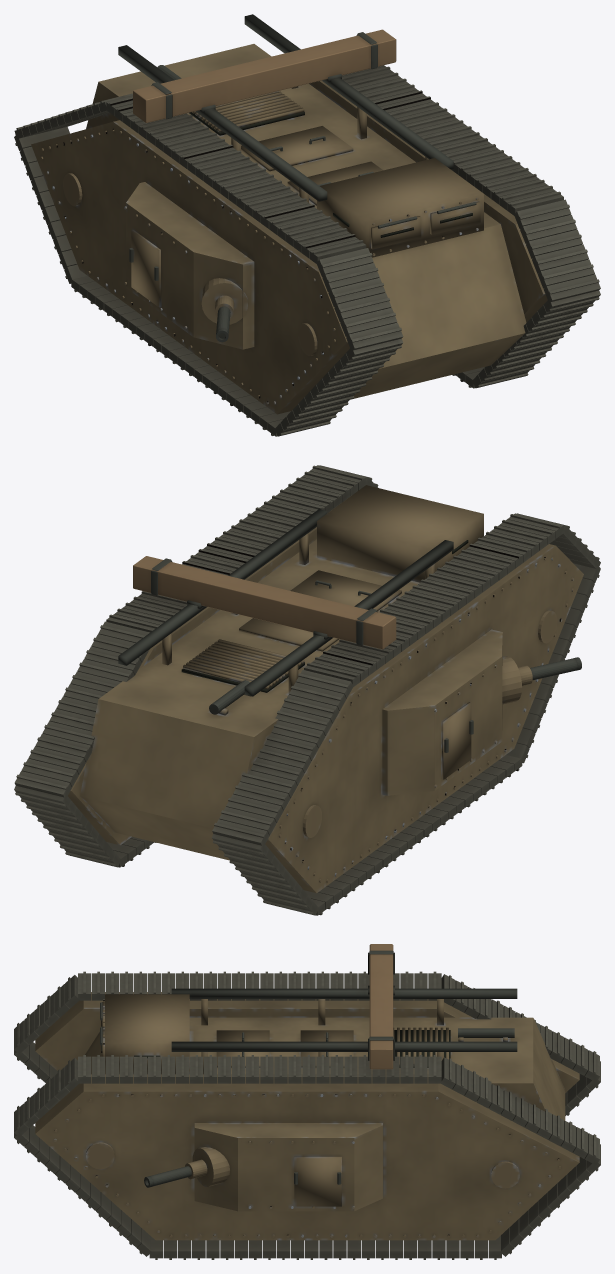
3 renders of one model, top to bottom at view 1: azimuth 30°, elevation 25°; view 2: azimuth 150°, elevation 25°; view 3: azimuth 270°, elevation 25°, orthographic. The views are drawn at different scales.
Visible parts, largest first — view 1: Central_riveted_hull, Track_armoured_frame_R, Continuous_track_shoes_R, Continuous_track_shoes_L, Six_pounder_sponson_R, Oak_unditching_beam, Track_armoured_frame_L, Short_six_pounder_R; view 2: Central_riveted_hull, Continuous_track_shoes_R, Track_armoured_frame_R, Continuous_track_shoes_L, Six_pounder_sponson_R, Oak_unditching_beam, Track_armoured_frame_L, Short_six_pounder_R; view 3: Track_armoured_frame_L, Continuous_track_shoes_L, Central_riveted_hull, Six_pounder_sponson_L, Continuous_track_shoes_R, Track_armoured_frame_R, Oak_unditching_beam, Short_six_pounder_L.
Boxes of the visible parts, x1=… form: Central_riveted_hull: x1=86, y1=14, x2=526, y2=399; Track_armoured_frame_R: x1=31, y1=120, x2=349, y2=414; Continuous_track_shoes_R: x1=14, y1=93, x2=403, y2=436; Continuous_track_shoes_L: x1=342, y1=65, x2=600, y2=388; Six_pounder_sponson_R: x1=124, y1=182, x2=254, y2=349; Oak_unditching_beam: x1=133, y1=29, x2=396, y2=122; Track_armoured_frame_L: x1=309, y1=80, x2=547, y2=322; Short_six_pounder_R: x1=214, y1=295, x2=234, y2=342; Central_riveted_hull: x1=80, y1=485, x2=483, y2=860; Continuous_track_shoes_R: x1=211, y1=513, x2=600, y2=915; Track_armoured_frame_R: x1=265, y1=544, x2=583, y2=893; Continuous_track_shoes_L: x1=14, y1=465, x2=378, y2=867; Six_pounder_sponson_R: x1=382, y1=629, x2=522, y2=795; Oak_unditching_beam: x1=133, y1=556, x2=396, y2=649; Track_armoured_frame_L: x1=68, y1=496, x2=350, y2=845; Short_six_pounder_R: x1=518, y1=657, x2=581, y2=685; Track_armoured_frame_L: x1=35, y1=1074, x2=579, y2=1240; Continuous_track_shoes_L: x1=14, y1=1055, x2=600, y2=1259; Central_riveted_hull: x1=85, y1=985, x2=565, y2=1120; Six_pounder_sponson_L: x1=192, y1=1123, x2=382, y2=1211; Continuous_track_shoes_R: x1=14, y1=971, x2=600, y2=1115; Track_armoured_frame_R: x1=35, y1=992, x2=579, y2=1092; Oak_unditching_beam: x1=368, y1=944, x2=394, y2=1069; Short_six_pounder_L: x1=144, y1=1159, x2=207, y2=1187.
Size of the model in its own units: 4.82 by 3.11 by 7.77.
1 material, 1 textured.
